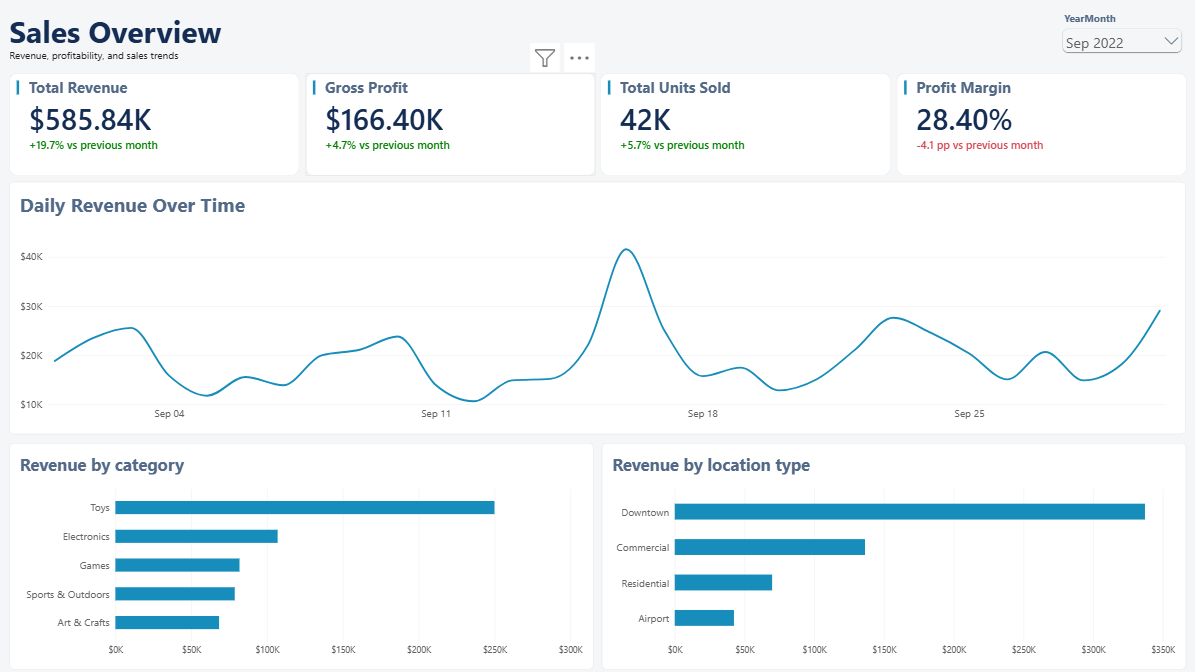

The page's visual inventory and layout, read from the dashboard file:
{"tool":"powerbi","page":{"name":"Sales Overview","canvas":[1920,1080],"ordinal":0},"visuals":[{"type":"lineChart","title":"Daily Revenue Over Time","fields":{"Category":["maven_toys calendar.Date"],"Y":["maven_toys sales.Total Revenue"]},"box":[18,293,1882,404],"z":0},{"type":"clusteredBarChart","title":"Revenue by category","fields":{"Category":["maven_toys products.Product_Category"],"Y":["maven_toys sales.Total Revenue"]},"box":[18,712,935,362],"z":1000},{"type":"clusteredBarChart","title":"Revenue by location type","fields":{"Category":["maven_toys stores.Store_Location"],"Y":["maven_toys sales.Total Revenue"]},"box":[966,712,935,362],"z":2000},{"type":"cardVisual","fields":{"Data":["maven_toys sales.Gross Profit"]},"box":[491.3,120,464,164],"z":4000},{"type":"cardVisual","fields":{"Data":["maven_toys sales.Total Units Sold"]},"box":[964.7,120,464,164],"z":5000},{"type":"cardVisual","fields":{"Data":["maven_toys sales.Profit Margin"]},"box":[1438,120,464,164],"z":6000},{"type":"textbox","box":[18,20,408.6,65.7],"z":7000},{"type":"textbox","box":[18,80,450,25.7],"z":8000},{"type":"cardVisual","fields":{"Data":["maven_toys sales.Total Revenue"]},"box":[18,120,464,164],"z":9000},{"type":"shape","box":[491.6,132,27.6,22.4],"z":10000},{"type":"shape","box":[964.7,132,27.6,22.4],"z":11000},{"type":"shape","box":[1437.9,132,27.6,22.4],"z":12000},{"type":"shape","box":[18.3,132,27.6,22.4],"z":12500},{"type":"slicer","fields":{"Values":["maven_toys calendar.YearMonth"]},"box":[1697.1,19.2,202,82],"z":12501}]}

Visuals, with their boxes in screenshot pixels (x1, y1, x2, y2), scaled from the page's 1920x1080 canvas onto the 1195x672 screenshot:
"Daily Revenue Over Time" lineChart: select_region(11, 182, 1183, 434)
"Revenue by category" clusteredBarChart: select_region(11, 443, 593, 668)
"Revenue by location type" clusteredBarChart: select_region(601, 443, 1183, 668)
cardVisual - maven_toys sales.Gross Profit: select_region(306, 75, 595, 177)
cardVisual - maven_toys sales.Total Units Sold: select_region(600, 75, 889, 177)
cardVisual - maven_toys sales.Profit Margin: select_region(895, 75, 1184, 177)
textbox: select_region(11, 12, 266, 53)
textbox: select_region(11, 50, 291, 66)
cardVisual - maven_toys sales.Total Revenue: select_region(11, 75, 300, 177)
shape: select_region(306, 82, 323, 96)
shape: select_region(600, 82, 618, 96)
shape: select_region(895, 82, 912, 96)
shape: select_region(11, 82, 29, 96)
slicer - maven_toys calendar.YearMonth: select_region(1056, 12, 1182, 63)
